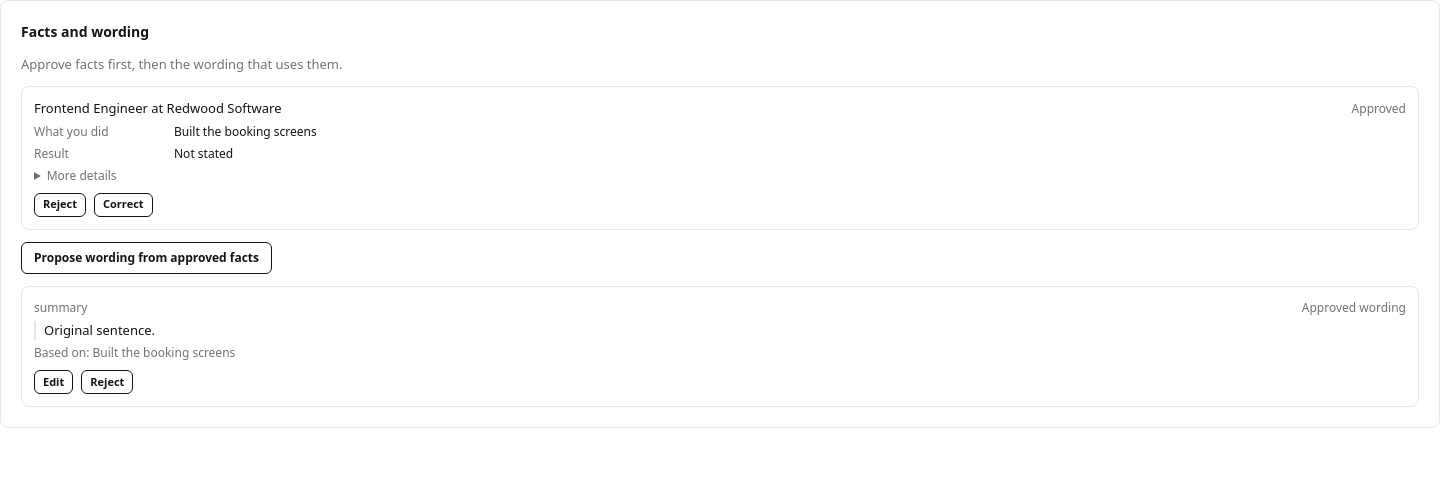
EvidenceReview (#419, step 7) › editing a wording saves a new variant and keeps the old one superseded
Click the button "Edit". click: point(54, 382)
box: [34,370,73,394]
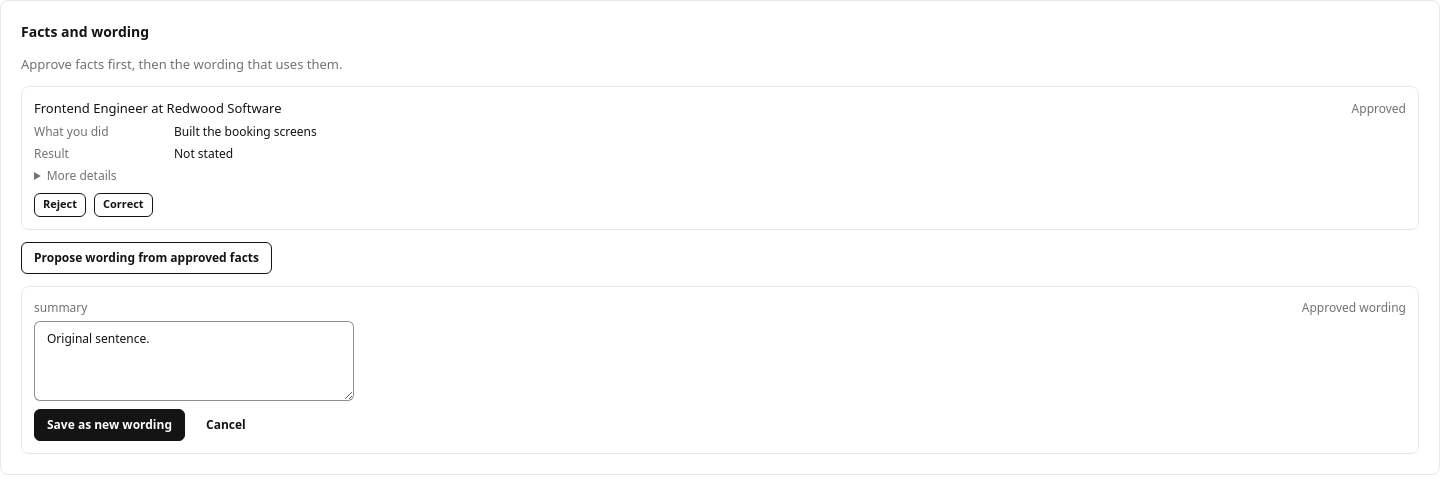
Replace the text in the text box named "Edited wording" with "A better sentence.". click: point(194, 361)
box: [34,321,354,401]
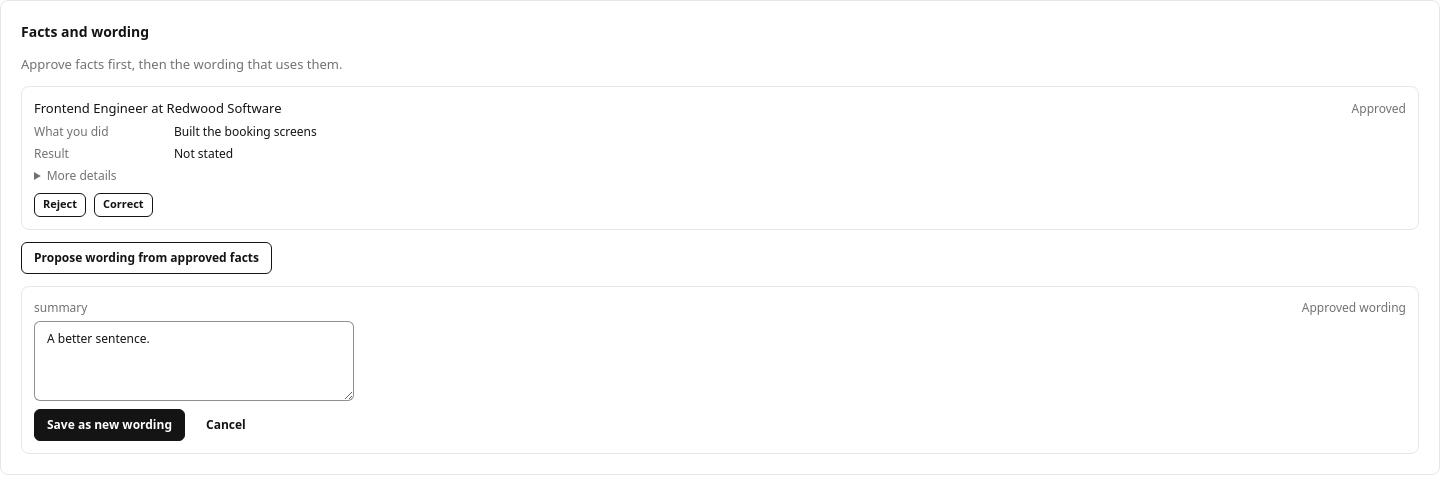
Click the button "Save as new wording". click: point(110, 425)
box: [34,409,185,441]
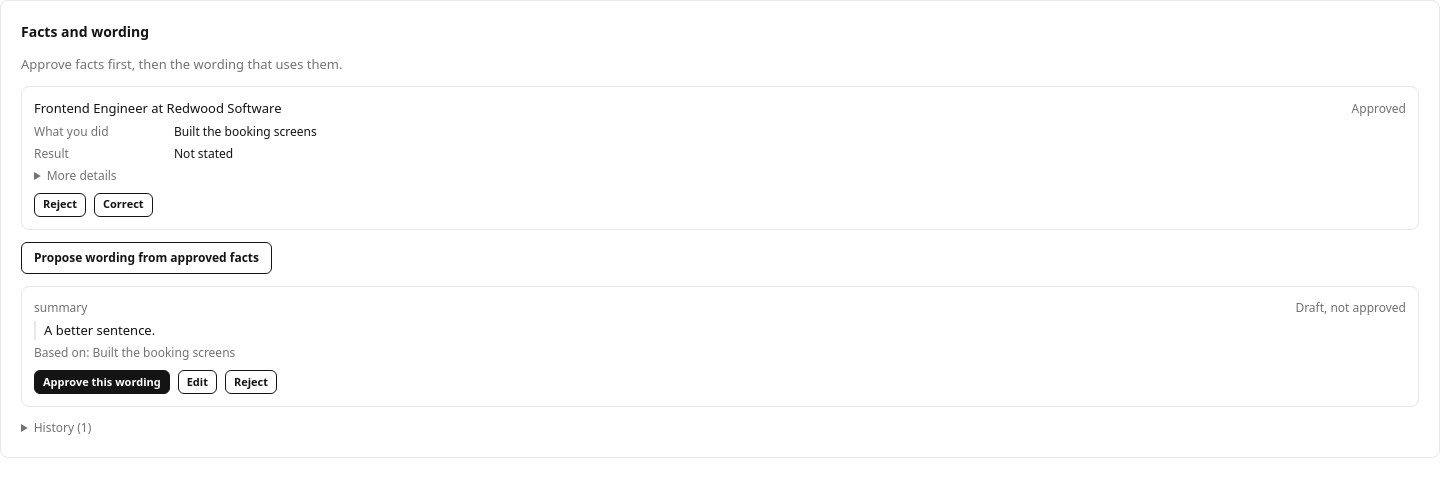
Result: the text "A better sentence." is shown at [34,321,1406,340]
Result: the text "Draft, not approved" is shown at [1295,299,1406,317]
